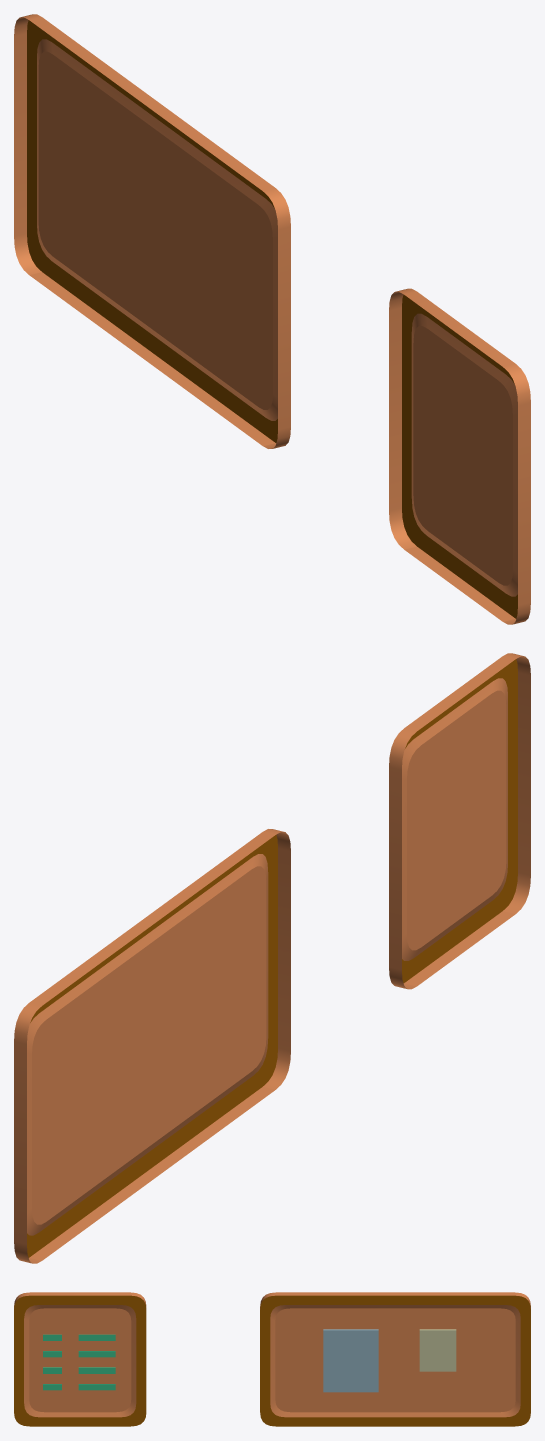
The model's file is Green Board001.fbx.
3 renders of one model, top to bottom at view 1: azimuth 30°, elevation 25°; view 2: azimuth 150°, elevation 25°; view 3: azimuth 270°, elevation 25°, orthographic. The views are drawn at different scales.
Visible parts, largest first — view 1: Green Board001; view 2: Green Board001; view 3: Green Board001.
Boxes of the visible parts, x1,y1,x2,y2 form: Green Board001: [14, 14, 530, 624]; Green Board001: [14, 653, 530, 1263]; Green Board001: [14, 1292, 530, 1426].
Bounding box in the file's own units: 0.4894 × 8.34 × 29.89.
